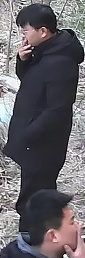smoking: (7, 2, 68, 68)
